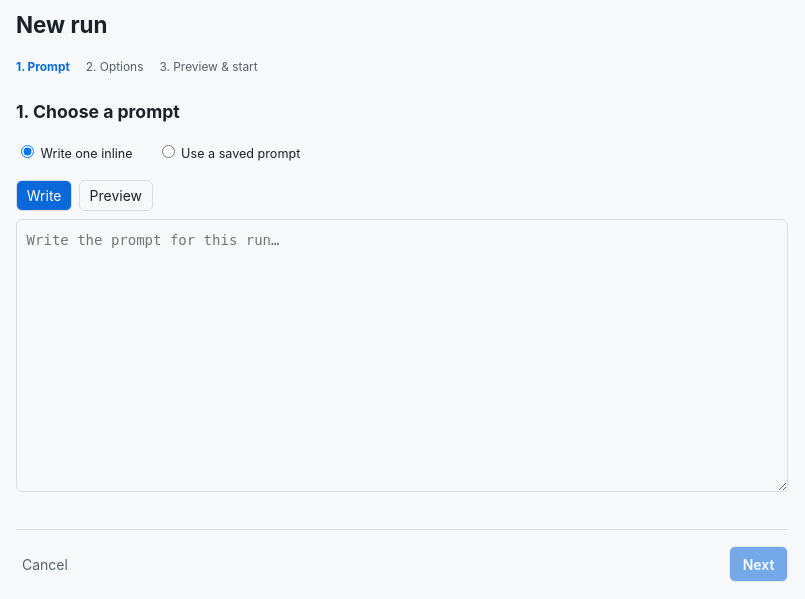
NewRunWizard › Start is disabled until the preview has loaded successfully
Click the radio button labelled "Use a saved prompt". click: (168, 151)
box: [162,145,175,158]
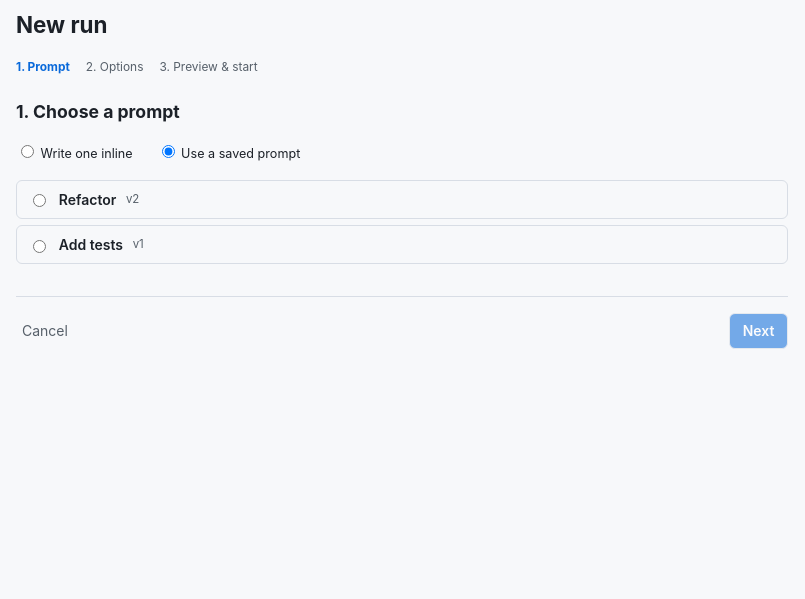
Click the radio button named "existing-prompt". click: (40, 201)
box: [33,194,46,207]
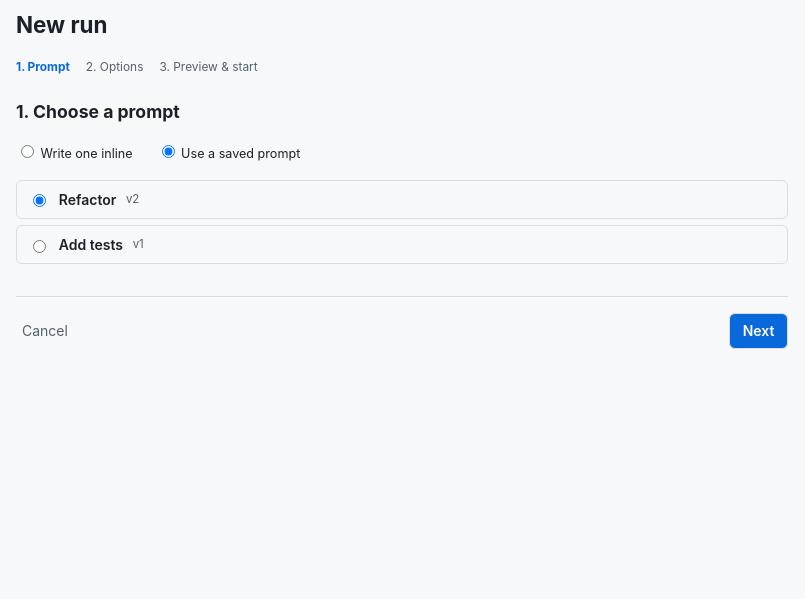
Click the button with test id "wizard-next". click: (759, 331)
box: [729,313,788,349]
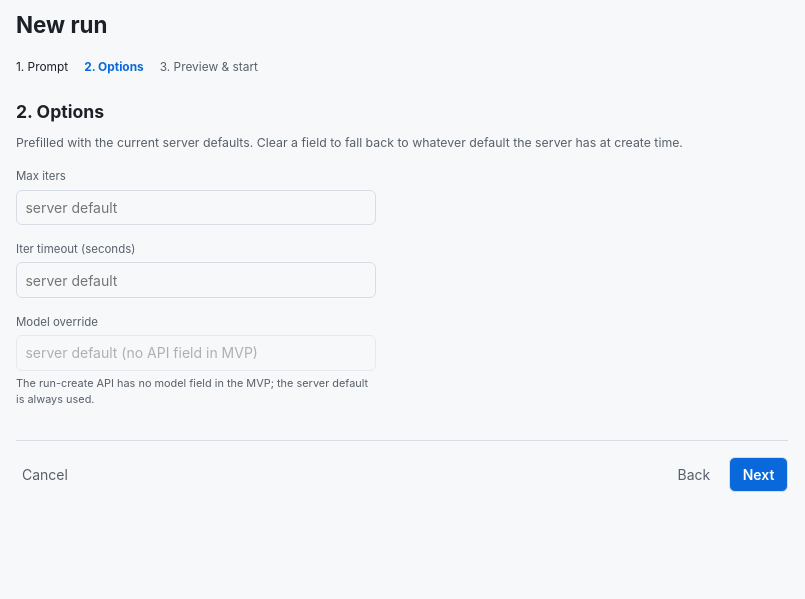
Click the button with test id "wizard-next". click: (759, 474)
box: [729,456,788,492]
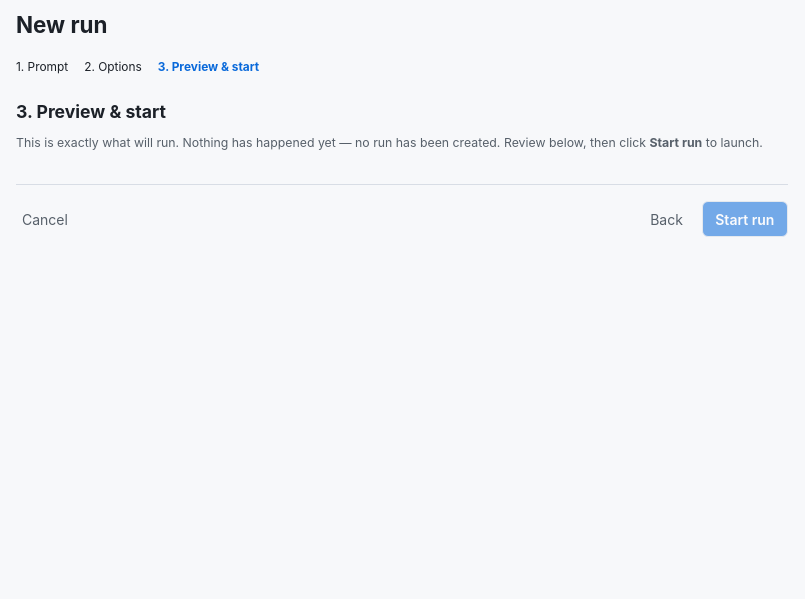
Expected: the button with test id "wizard-start" is disabled, [702,201,788,237]
